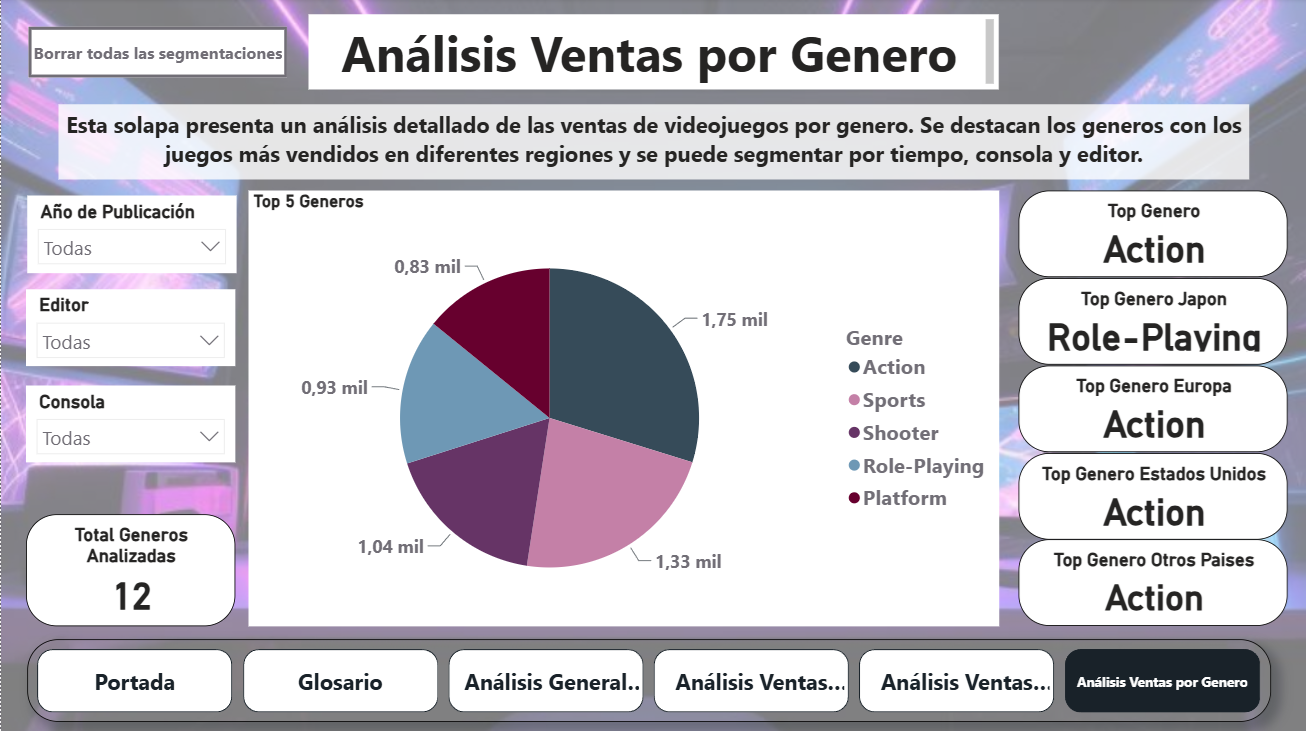

The dashboard page shown, as its layout file describes it:
{"tool":"powerbi","page":{"name":"Análisis Ventas por Genero","canvas":[1280,720],"ordinal":5},"visuals":[{"type":"textbox","box":[301,15.8,675.4,73.4],"z":0},{"type":"slicer","fields":{"Values":["TB_Videogames.Year"]},"box":[25.9,193,204.5,76.3],"z":1000},{"type":"slicer","fields":{"Values":["Dim_Platform.Platform"]},"box":[24.5,378.7,204.5,74.9],"z":2000},{"type":"slicer","fields":{"Values":["Dim_Publisher.Publisher"]},"box":[24.5,285.1,204.5,74.9],"z":3000},{"type":"card","title":"Top Genero Japon","fields":{"Values":["Z_Medidas.GeneroConJuegosMasVendidosJP"]},"box":[995,273.6,263.5,85],"z":4000},{"type":"card","title":"Total Generos Analizadas","fields":{"Values":["Z_Medidas.Generos_Diferentes"]},"box":[24.5,505.4,204.5,109.4],"z":5000},{"type":"actionButton","box":[26.3,27.8,253.2,49.8],"z":6000},{"type":"pieChart","title":"Top 5 Generos","fields":{"Category":["Dim_Genre.Genre"],"Y":["Z_Medidas.TotalVentasGlobales"]},"box":[241.9,188.6,734.4,426.2],"z":7000},{"type":"card","title":"Top Genero Europa","fields":{"Values":["Z_Medidas.GeneroConJuegosMasVendidosEU"]},"box":[995,360,263.5,85],"z":8000},{"type":"card","title":"Top Genero Estados Unidos","fields":{"Values":["Z_Medidas.GeneroConJuegosMasVendidosNA"]},"box":[995,445,263.5,85],"z":9000},{"type":"card","title":"Top Genero Otros Paises","fields":{"Values":["Z_Medidas.GeneroConJuegosMasVendidosOtros"]},"box":[995,529.9,263.5,85],"z":10000},{"type":"card","title":"Top Genero","fields":{"Values":["Z_Medidas.GeneroConJuegosMasVendidos"]},"box":[995,188.6,263.5,85],"z":11000},{"type":"textbox","box":[56.2,103.7,1165,73.4],"z":12000},{"type":"pageNavigator","box":[25.9,627.8,1216.8,80.6],"z":13000}]}

Visuals, with their boxes in screenshot pixels (x1, y1, x2, y2), scaled from the page's 1280x720 canvas onto the 1306x731 screenshot:
textbox: (x1=307, y1=16, x2=996, y2=91)
slicer - TB_Videogames.Year: (x1=26, y1=196, x2=235, y2=273)
slicer - Dim_Platform.Platform: (x1=25, y1=384, x2=234, y2=461)
slicer - Dim_Publisher.Publisher: (x1=25, y1=289, x2=234, y2=366)
"Top Genero Japon" card: (x1=1015, y1=278, x2=1284, y2=364)
"Total Generos Analizadas" card: (x1=25, y1=513, x2=234, y2=624)
actionButton: (x1=27, y1=28, x2=285, y2=79)
"Top 5 Generos" pieChart: (x1=247, y1=191, x2=996, y2=624)
"Top Genero Europa" card: (x1=1015, y1=366, x2=1284, y2=452)
"Top Genero Estados Unidos" card: (x1=1015, y1=452, x2=1284, y2=538)
"Top Genero Otros Paises" card: (x1=1015, y1=538, x2=1284, y2=624)
"Top Genero" card: (x1=1015, y1=191, x2=1284, y2=278)
textbox: (x1=57, y1=105, x2=1246, y2=180)
pageNavigator: (x1=26, y1=637, x2=1268, y2=719)
